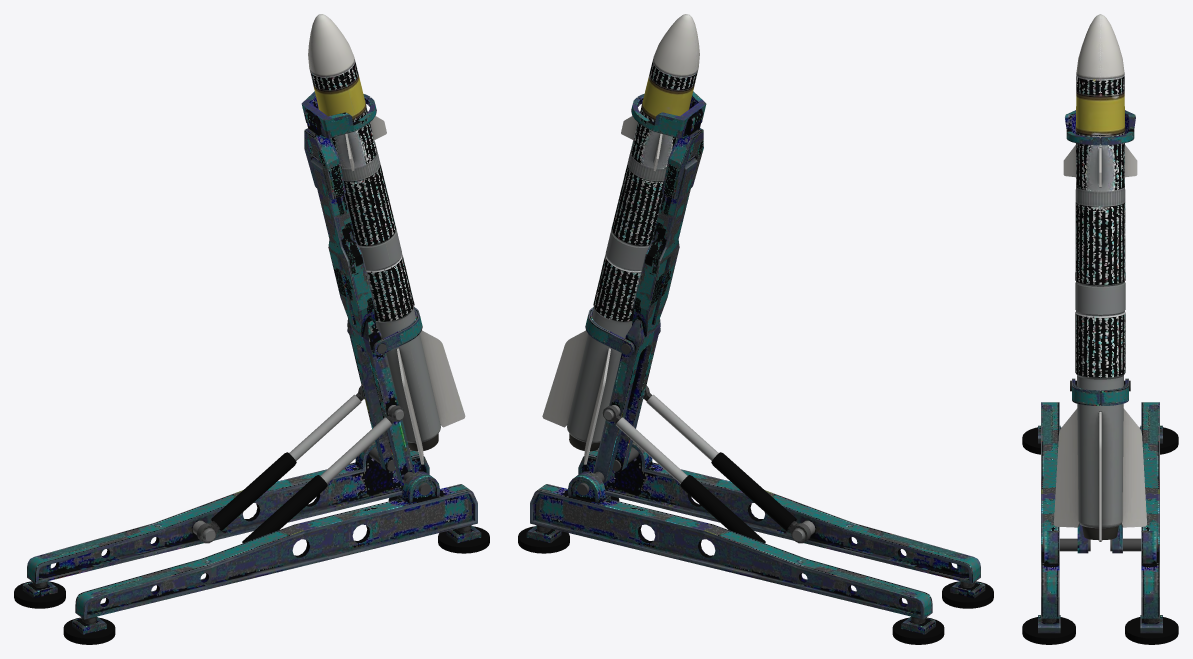
3 renders of one model, left to right at view 1: azimuth 30°, elevation 25°; view 2: azimuth 150°, elevation 25°; view 3: azimuth 270°, elevation 25°, orthographic. The views are drawn at different scales.
Visible parts, largest first — view 1: body0_model0_lod0_mesh0, body0_model0_lod0_mesh1; view 2: body0_model0_lod0_mesh0, body0_model0_lod0_mesh1; view 3: body0_model0_lod0_mesh1, body0_model0_lod0_mesh0.
Boxes of the visible parts, box(x1,y1,x2,y2) form: body0_model0_lod0_mesh0: box(14, 91, 489, 644); body0_model0_lod0_mesh1: box(308, 14, 465, 464); body0_model0_lod0_mesh0: box(518, 91, 993, 644); body0_model0_lod0_mesh1: box(542, 14, 699, 464); body0_model0_lod0_mesh1: box(1054, 14, 1146, 541); body0_model0_lod0_mesh0: box(1022, 110, 1178, 644).
Size of the model in its own units: 437 by 532 by 135.
2 materials, 2 textured.
